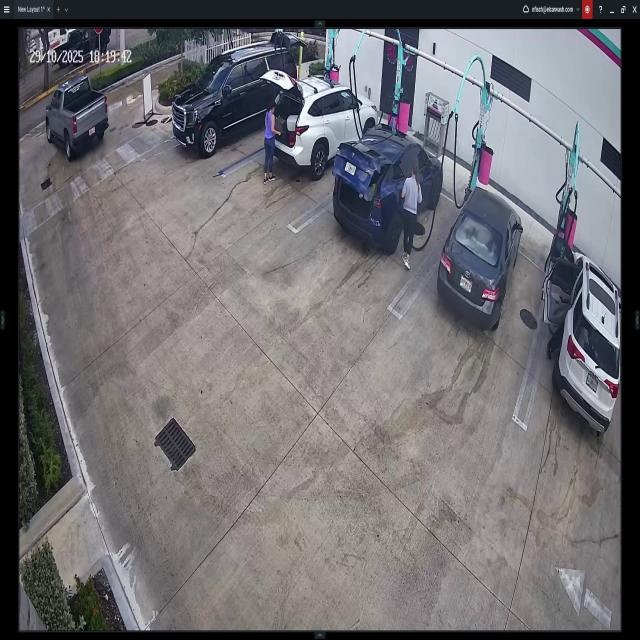Car: (333, 125, 443, 254), (548, 241, 619, 432), (172, 49, 298, 152), (265, 72, 378, 179), (438, 185, 522, 328), (46, 75, 110, 160)
